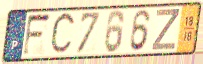6: (128, 8, 151, 53), (103, 8, 125, 55)
7: (77, 10, 103, 56)
C: (49, 10, 77, 58)
F: (21, 12, 52, 58)
Z: (150, 8, 181, 52)
